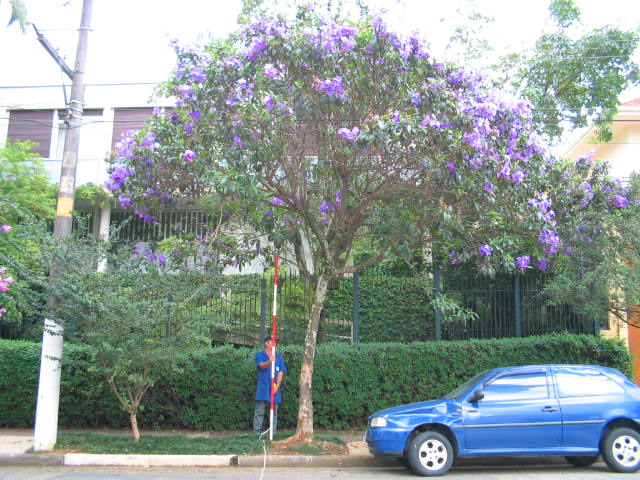crown: (105, 7, 626, 300)
stem: (292, 278, 332, 443)
stick: (266, 254, 284, 443)
tree: (104, 5, 626, 443)
